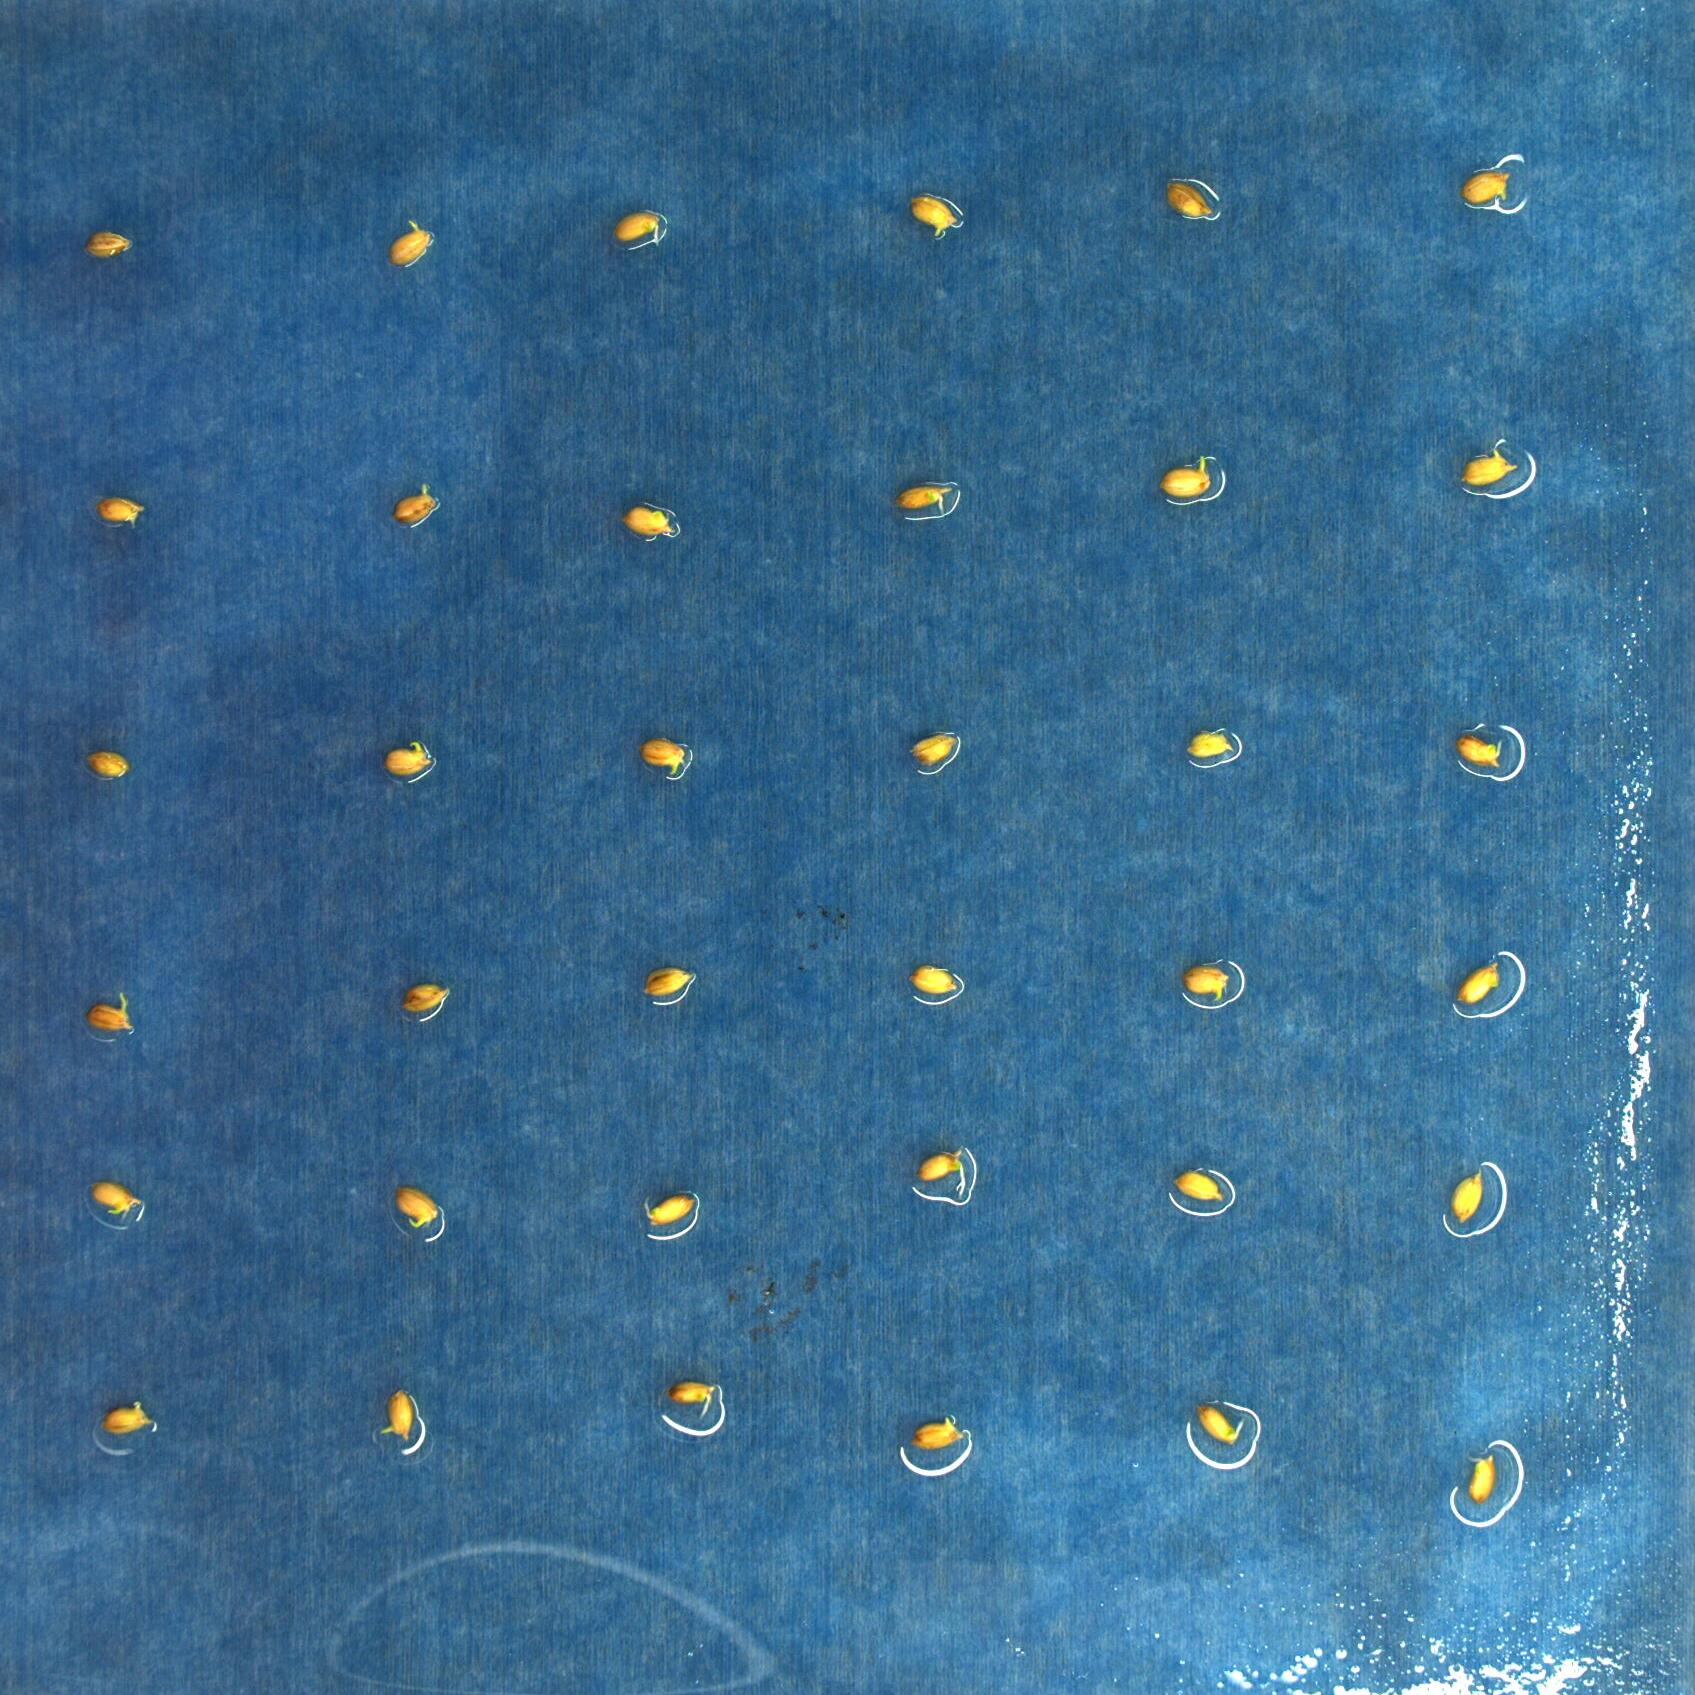not sprout: (1459, 438, 1524, 484), (900, 196, 959, 239), (1453, 959, 1504, 1009), (919, 1147, 969, 1198), (1159, 456, 1215, 498), (608, 206, 667, 245), (893, 480, 956, 515), (1453, 731, 1509, 771), (82, 995, 137, 1035), (388, 220, 433, 269), (391, 484, 441, 528), (640, 736, 689, 779), (1448, 1167, 1484, 1226), (84, 225, 133, 265), (1164, 180, 1215, 219), (1183, 725, 1240, 759), (394, 1184, 439, 1228), (93, 494, 147, 529), (641, 1194, 695, 1229), (1461, 168, 1512, 205), (621, 504, 677, 539), (383, 740, 435, 778), (88, 1184, 140, 1222), (101, 1400, 152, 1437), (1173, 1169, 1226, 1203), (380, 1388, 414, 1440), (1184, 964, 1232, 1001), (641, 965, 698, 997), (911, 1416, 961, 1451), (400, 981, 452, 1015), (906, 965, 961, 997), (1465, 1454, 1498, 1504), (911, 733, 959, 765), (1198, 1405, 1239, 1444), (84, 748, 127, 781), (667, 1380, 717, 1405)
